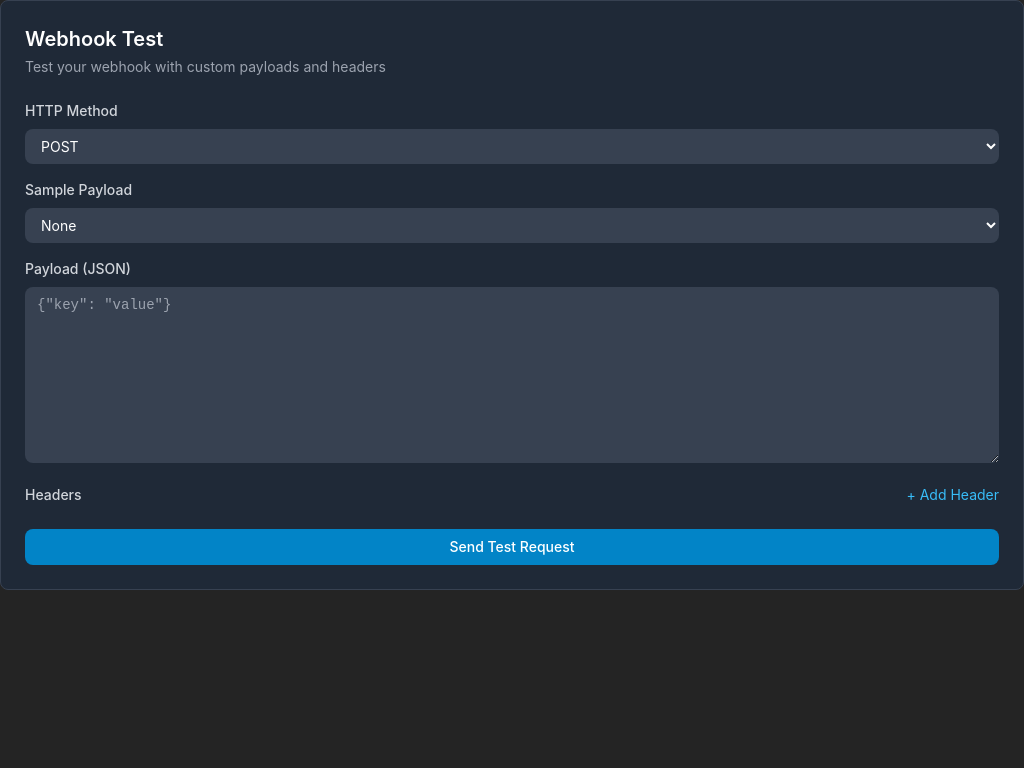
WebhookTestPanel › Custom Headers › should allow adding header key-value pairs
Click the button "+ Add Header". click: click(953, 495)
box: [906, 485, 999, 505]
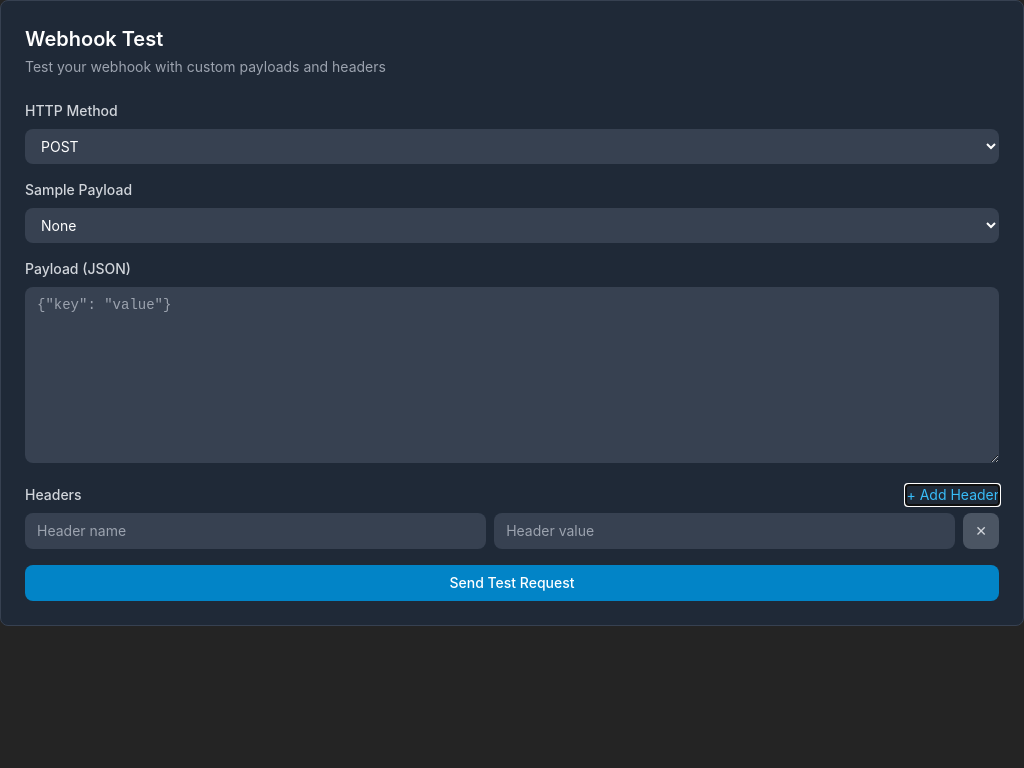
Now the field with placeholder "Header name" is shown, box [25, 513, 486, 549]
Now the field with placeholder "Header value" is shown, box [494, 513, 955, 549]
